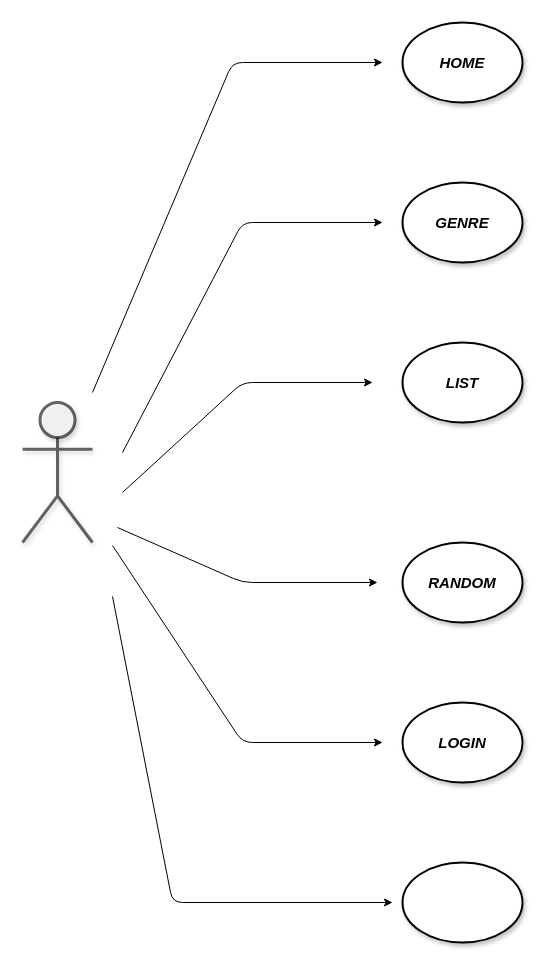
This 547x967 diagram has some shape labels left out. The centre of each missing label's shape, as x and y in pixels:
Actor: (58,473)
PERSONAL AREA: (463,903)
